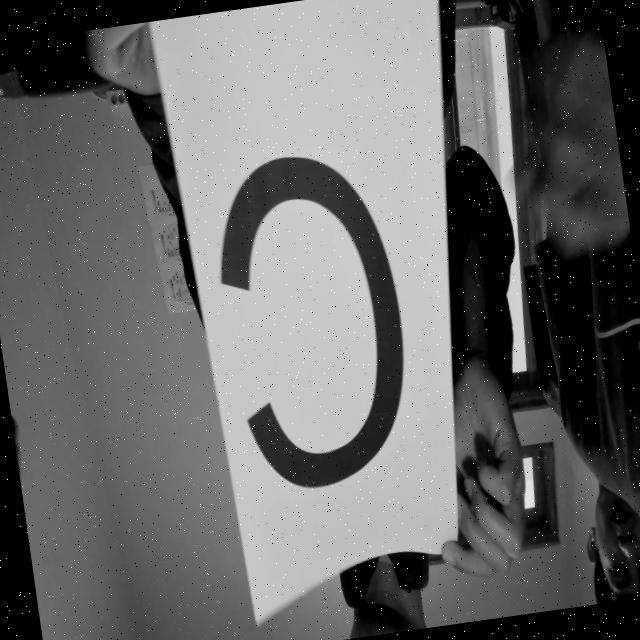c: (195, 132, 432, 519)
